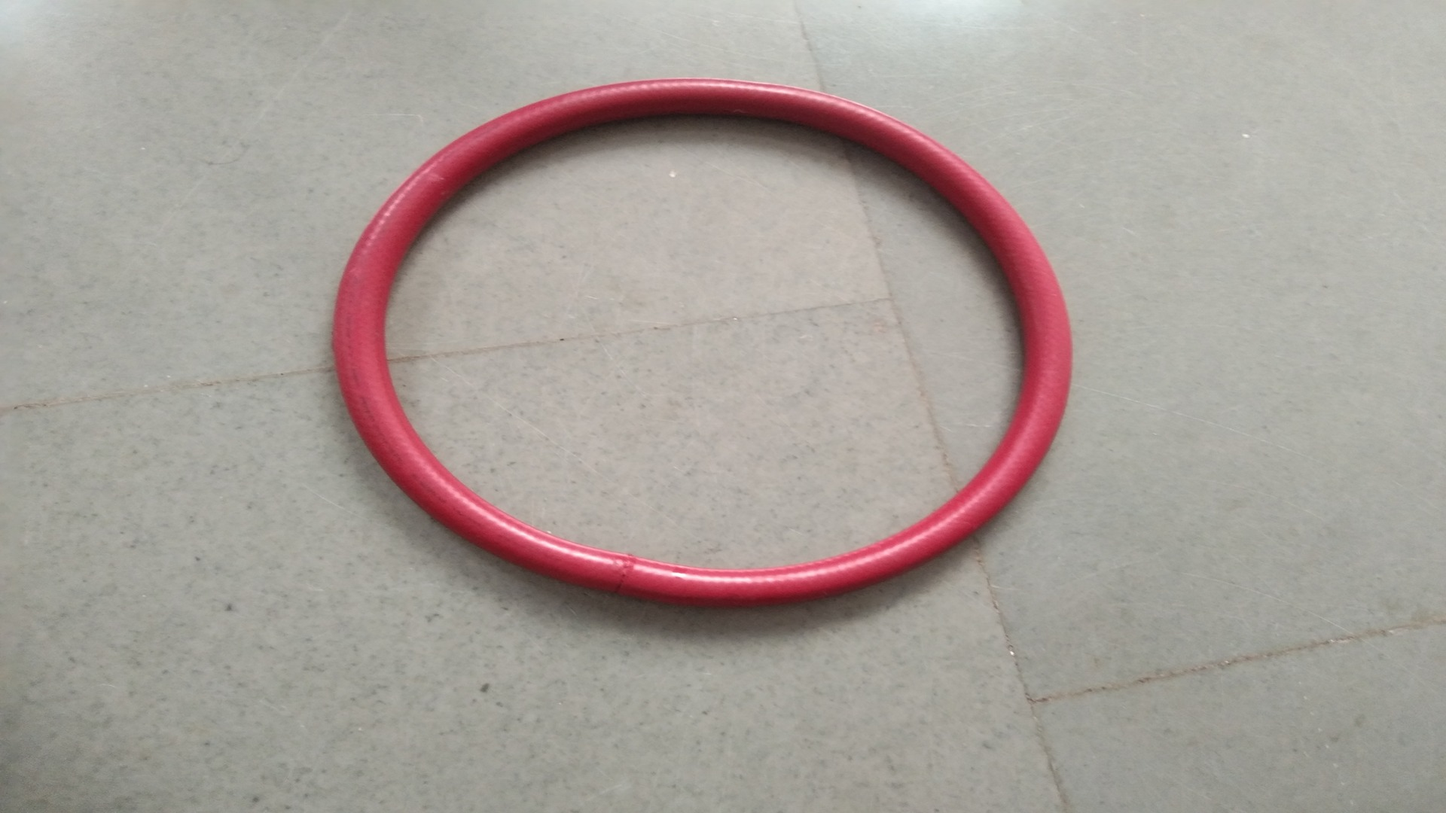Red ring: (328, 77, 1068, 604)
